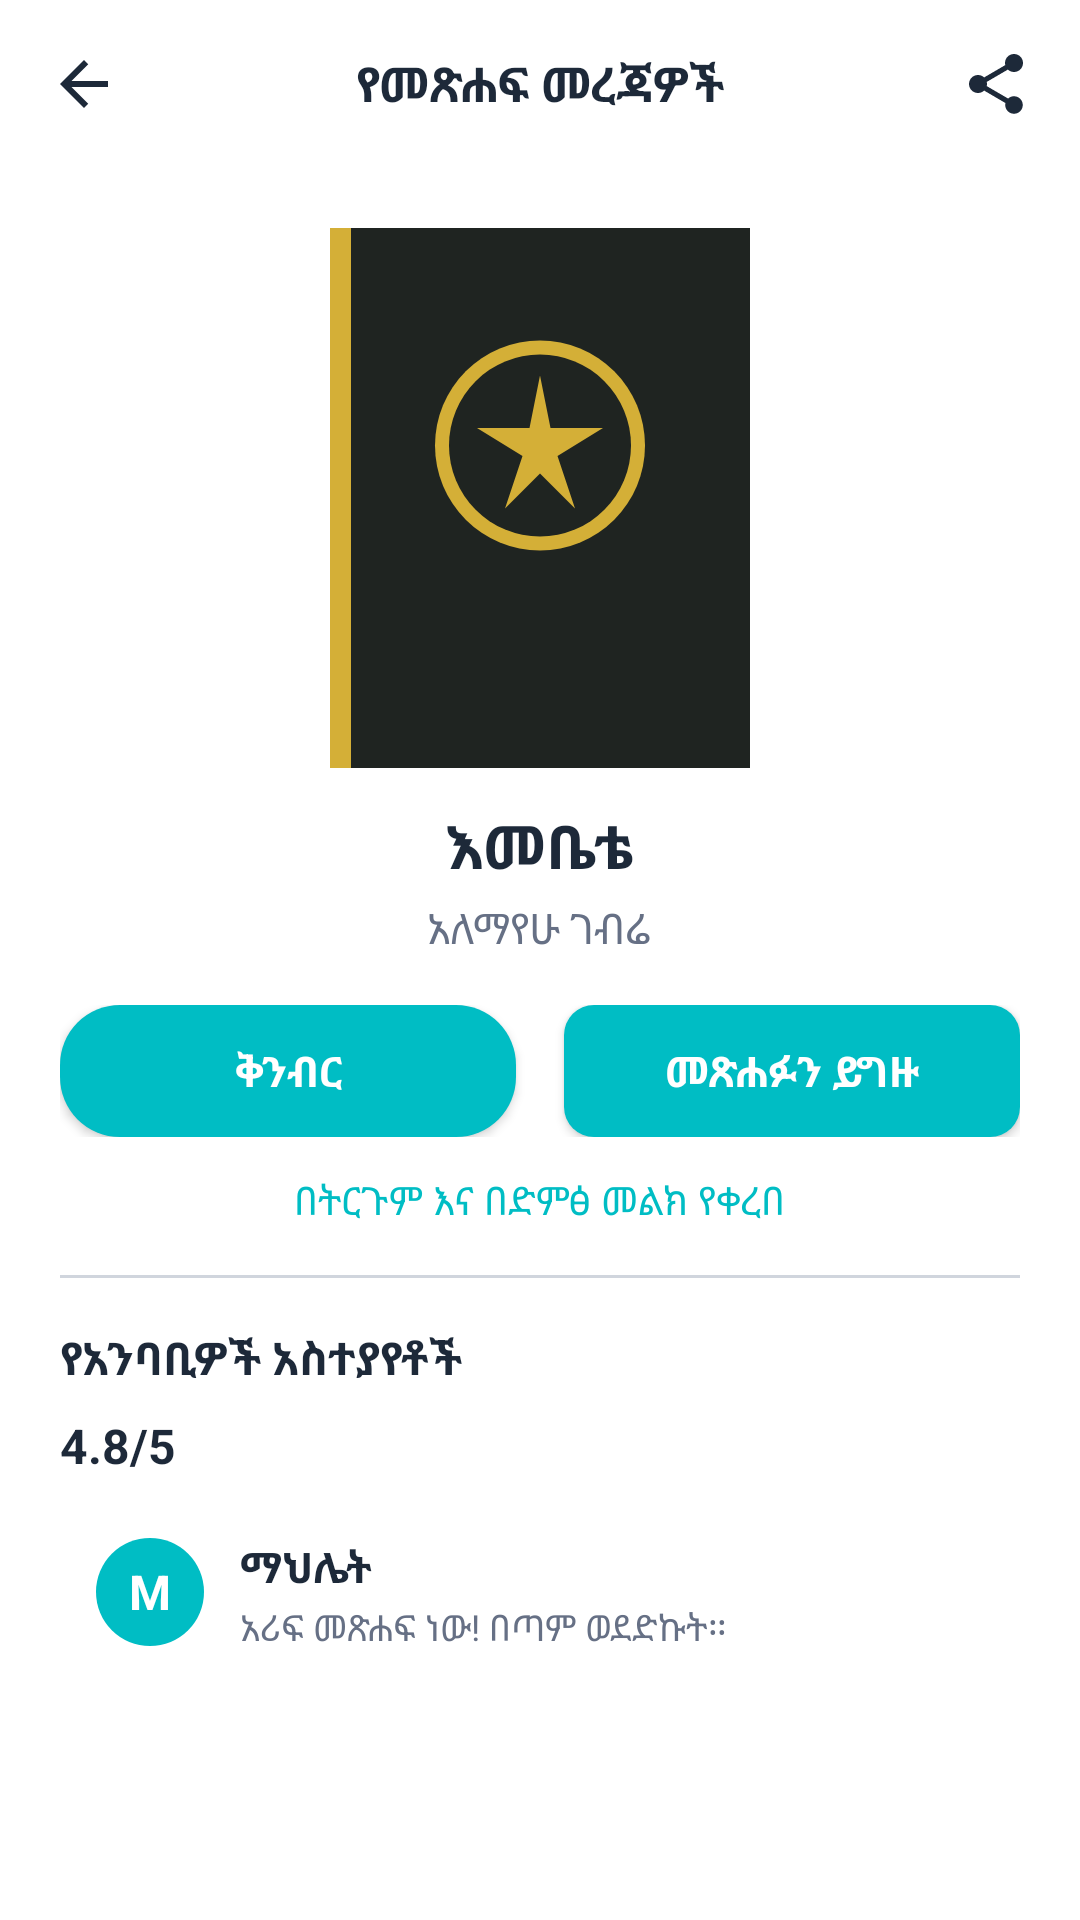

Icon bounding boxes for this 1080 x 1920 phone screenshot, format detection(x1, y1, x2, y2):
ተመለስ: detection(60, 60, 108, 108)
አጋራ: detection(969, 54, 1023, 114)
